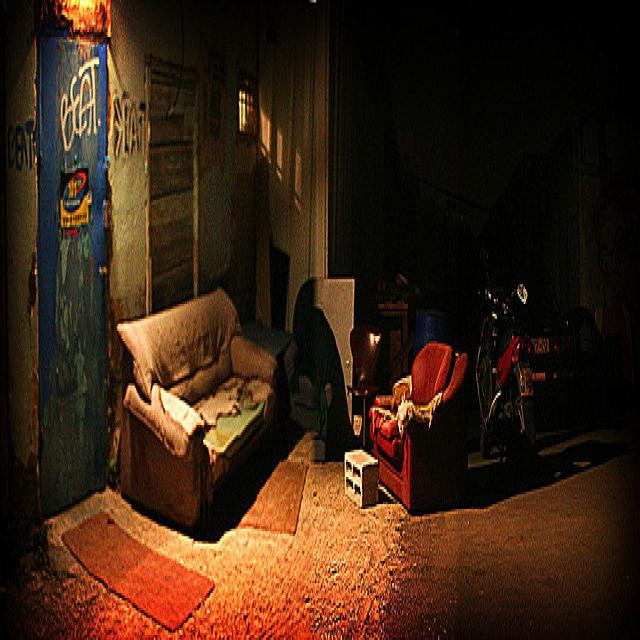Motorbike: (470, 247, 531, 487)
